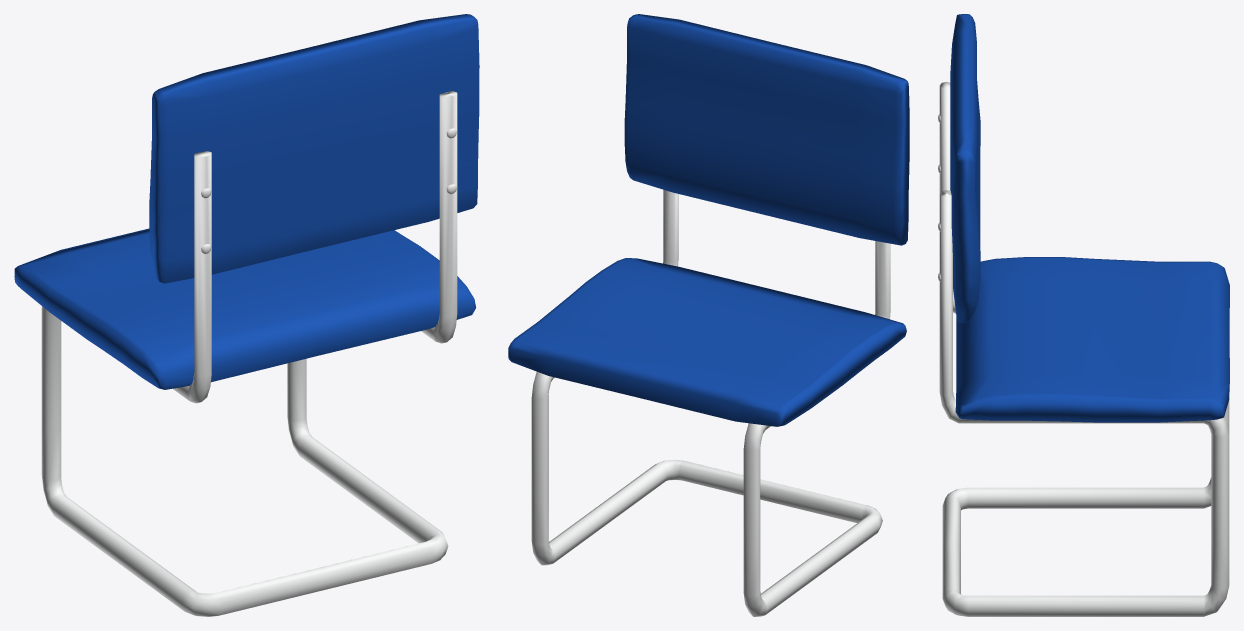
File: chair4.glb
3 renders of one model, left to right at view 1: azimuth 30°, elevation 25°; view 2: azimuth 150°, elevation 25°; view 3: azimuth 270°, elevation 25°, orthographic. The views are drawn at different scales.
Parts seen in each view (by area): view 1: Chair.002, Chair.001; view 2: Chair.002, Chair.001; view 3: Chair.002, Chair.001.
Boxes of the visible parts, left/top/right/bottom form: Chair.002: left=14, top=14, right=479, bottom=389; Chair.001: left=41, top=91, right=457, bottom=616; Chair.002: left=508, top=14, right=909, bottom=426; Chair.001: left=531, top=189, right=890, bottom=616; Chair.002: left=938, top=14, right=1229, bottom=422; Chair.001: left=939, top=81, right=1229, bottom=616.
Size of what is drawn, in the model's own units: 2.94 by 4.76 by 2.6.
2 materials, 2 textured.
